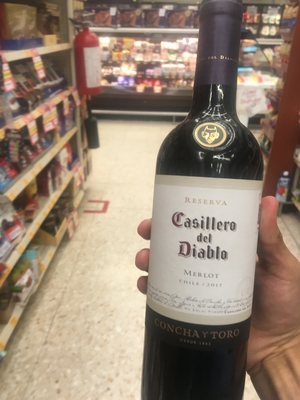casillero del diablo merlot: (136, 6, 273, 400)
